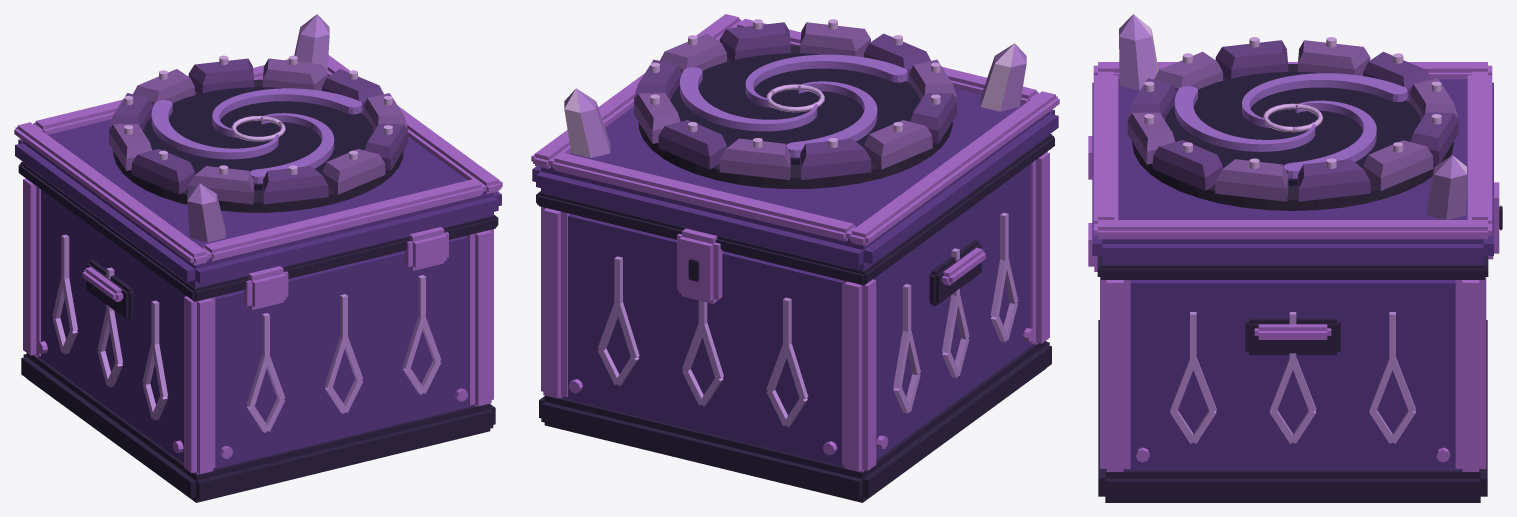
The model's file is crate_vortice.fbx.
3 views of the same model, side by side, from view 1: azimuth 30°, elevation 25°; view 2: azimuth 150°, elevation 25°; view 3: azimuth 270°, elevation 25° (orthographic). The views are drawn at different scales.
Parts seen in each view (by area): view 1: crate_vortice_caixa, crate_vortice_anim_anel, crate_vortice_caixa_neon, crate_vortice_anim_espiral, crate_vortice, crate_vortice_anim_anel_neon; view 2: crate_vortice_caixa, crate_vortice_anim_anel, crate_vortice_caixa_neon, crate_vortice_anim_espiral, crate_vortice, crate_vortice_anim_anel_neon; view 3: crate_vortice_caixa, crate_vortice_anim_anel, crate_vortice_anim_espiral, crate_vortice_caixa_neon, crate_vortice, crate_vortice_anim_anel_neon.
Boxes of the visible parts, left/top/right/bottom form: crate_vortice_caixa: left=14, top=55, right=502, bottom=502; crate_vortice_anim_anel: left=109, top=58, right=407, bottom=204; crate_vortice_caixa_neon: left=52, top=234, right=441, bottom=432; crate_vortice_anim_espiral: left=151, top=88, right=362, bottom=183; crate_vortice: left=187, top=14, right=329, bottom=242; crate_vortice_anim_anel_neon: left=124, top=55, right=392, bottom=174; crate_vortice_caixa: left=531, top=14, right=1059, bottom=502; crate_vortice_anim_anel: left=633, top=22, right=957, bottom=180; crate_vortice_caixa_neon: left=597, top=212, right=1018, bottom=427; crate_vortice_anim_espiral: left=680, top=54, right=907, bottom=157; crate_vortice: left=564, top=43, right=1026, bottom=157; crate_vortice_anim_anel_neon: left=650, top=19, right=940, bottom=147; crate_vortice_caixa: left=1088, top=62, right=1502, bottom=502; crate_vortice_anim_anel: left=1127, top=40, right=1458, bottom=201; crate_vortice_anim_espiral: left=1174, top=73, right=1407, bottom=178; crate_vortice_caixa_neon: left=1170, top=312, right=1415, bottom=443; crate_vortice: left=1119, top=14, right=1466, bottom=219; crate_vortice_anim_anel_neon: left=1144, top=37, right=1441, bottom=168.
Bounding box in the file's own units: 2.68 × 2.44 × 2.7.
Materials: 1 (1 with a texture image).
